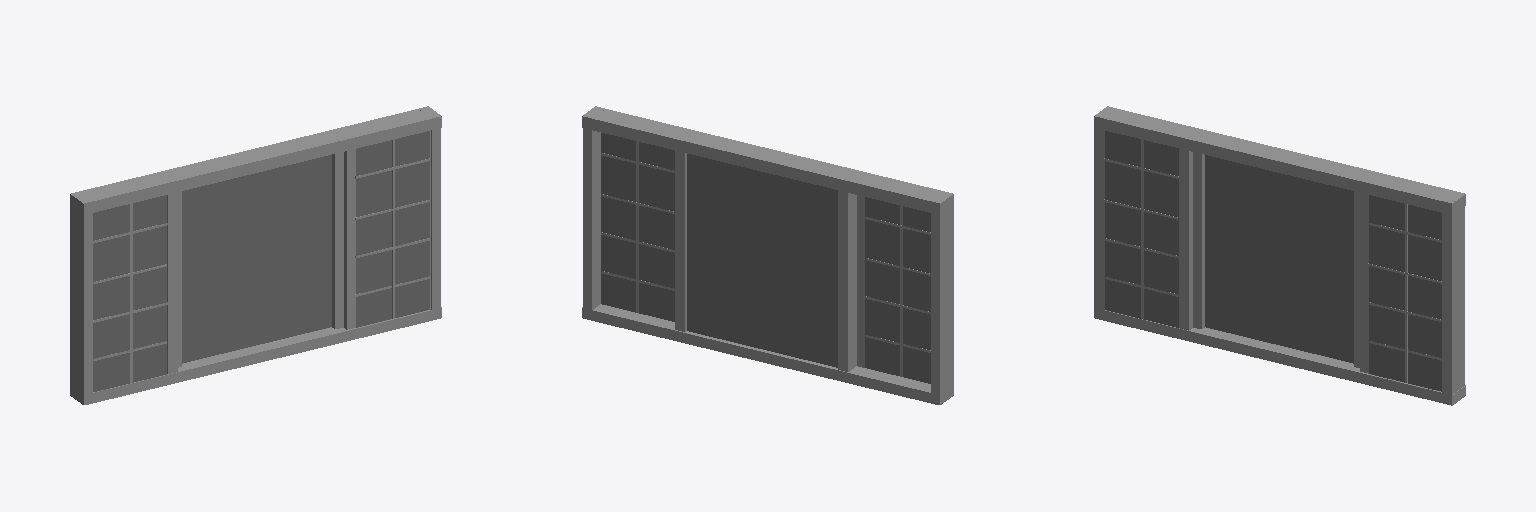
The model's file is DianaWindow.obj.
3 views of the same model, side by side, from view 1: azimuth 30°, elevation 25°; view 2: azimuth 150°, elevation 25°; view 3: azimuth 330°, elevation 25° (orthographic).
Parts seen in each view (by area): view 1: sweethome3d_window_pane1, sweethome3d_window_pane3, sweethome3d_window_pane2, Cube_3_2, Cube_3_1, Cube_3_3, Cube_5_2, Cube_5_1, Cube_3_4, Cube_5_4, Cube_5, Cube_6_1 (+1 smaller); view 2: sweethome3d_window_pane1, sweethome3d_window_pane2, sweethome3d_window_pane3, Cube_3_2, Cube_3_1, Cube_3_3, Cube_3_4, Cube_5, Cube_5_1, Cube_5_4; view 3: sweethome3d_window_pane1, sweethome3d_window_pane3, sweethome3d_window_pane2, Cube_3_2, Cube_3_1, Cube_3_4, Cube_5_4, Cube_5, Cube_3_3, Cube_5_2, Cube_5_1, Cube_5_3 (+2 smaller).
Boxes of the visible parts, box(x1,y1,x2,y2) form: sweethome3d_window_pane1: box(182, 155, 331, 363); sweethome3d_window_pane3: box(93, 195, 166, 391); sweethome3d_window_pane2: box(356, 131, 429, 327); Cube_3_2: box(80, 106, 441, 214); Cube_3_1: box(85, 307, 441, 404); Cube_3_3: box(70, 191, 92, 404); Cube_5_2: box(344, 149, 355, 329); Cube_5_1: box(332, 152, 343, 328); Cube_3_4: box(419, 106, 440, 318); Cube_5_4: box(167, 192, 177, 373); Cube_5: box(178, 191, 181, 367); Cube_6_1: box(130, 203, 132, 383); sweethome3d_window_pane1: box(687, 154, 837, 367); sweethome3d_window_pane2: box(601, 133, 674, 321); sweethome3d_window_pane3: box(865, 197, 930, 383); Cube_3_2: box(582, 106, 943, 214); Cube_3_1: box(582, 304, 938, 404); Cube_3_3: box(931, 191, 953, 404); Cube_3_4: box(583, 106, 604, 319); Cube_5: box(838, 190, 856, 371); Cube_5_1: box(675, 151, 686, 331); Cube_5_4: box(857, 195, 864, 367); sweethome3d_window_pane1: box(1205, 155, 1353, 363); sweethome3d_window_pane3: box(1105, 131, 1178, 327); sweethome3d_window_pane2: box(1369, 195, 1441, 391); Cube_3_2: box(1095, 109, 1465, 214); Cube_3_1: box(1095, 308, 1465, 405); Cube_3_4: box(1442, 191, 1464, 394); Cube_5_4: box(1179, 149, 1192, 330); Cube_5: box(1193, 152, 1204, 328); Cube_3_3: box(1094, 106, 1116, 319); Cube_5_2: box(1360, 193, 1368, 373); Cube_5_1: box(1354, 191, 1359, 367); Cube_5_3: box(1453, 212, 1456, 393).
Bounding box in the file's own units: 4.46 × 2.41 × 0.2933.